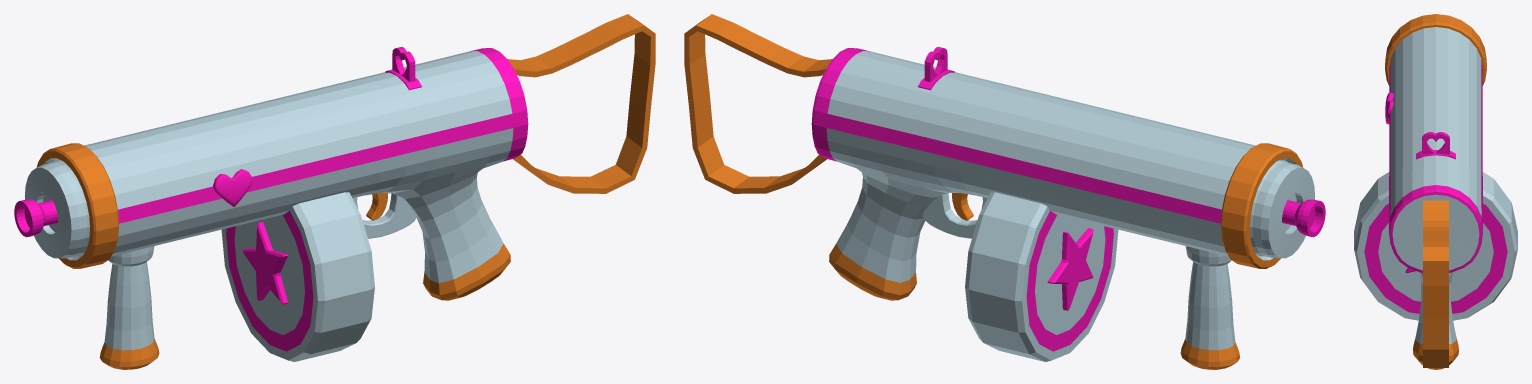
The model's file is smg.glb.
3 views of the same model, side by side, from view 1: azimuth 30°, elevation 25°; view 2: azimuth 150°, elevation 25°; view 3: azimuth 270°, elevation 25° (orthographic). The views are drawn at different scales.
Visible parts, largest first — view 1: smg; view 2: smg; view 3: smg.
Boxes of the visible parts, left/top/right/bottom form: smg: left=14, top=14, right=655, bottom=369; smg: left=684, top=14, right=1325, bottom=369; smg: left=1354, top=14, right=1517, bottom=369.
Bounding box in the file's own units: 3.55 × 1.48 × 0.9852.
